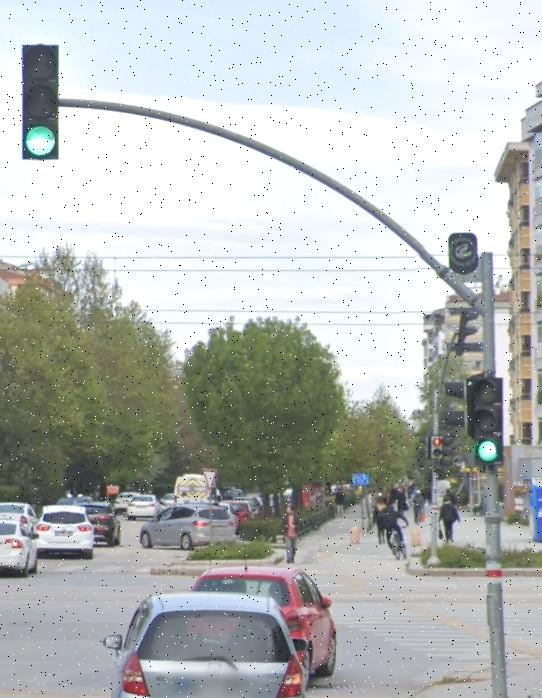greenlight: (21, 45, 59, 162), (466, 378, 506, 467)
